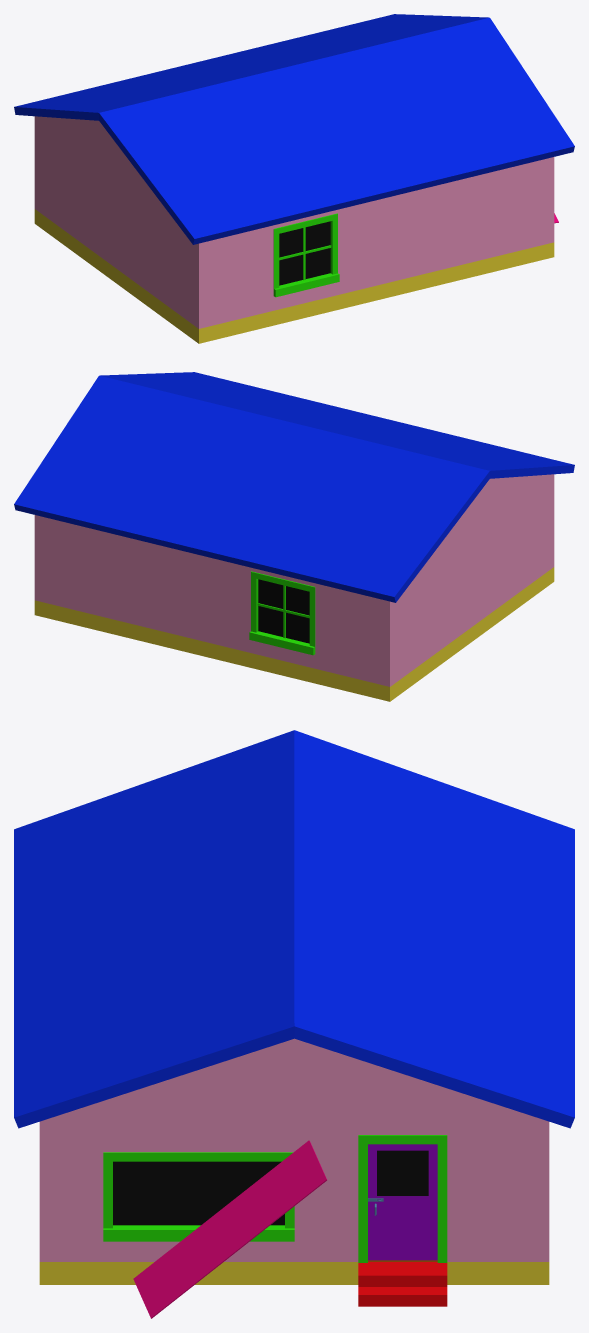
The model's file is Store.fbx.
3 renders of one model, top to bottom at view 1: azimuth 30°, elevation 25°; view 2: azimuth 150°, elevation 25°; view 3: azimuth 270°, elevation 25°, orthographic. The views are drawn at different scales.
Parts seen in each view (by area): view 1: Store, Windows; view 2: Store, Windows; view 3: Store, Windows, Door.
Part boxes in pixels (x1,y1,x2,y2): Store: (14, 14, 574, 343); Windows: (279, 221, 330, 285); Store: (14, 372, 574, 701); Windows: (258, 579, 309, 643); Store: (14, 730, 574, 1318); Windows: (113, 1161, 284, 1225); Door: (368, 1144, 437, 1260).
Bounding box in the file's own units: 1165 × 480 × 880.
